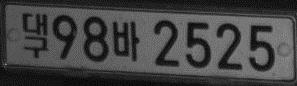2: (153, 19, 179, 67), (216, 23, 242, 70)
5: (248, 24, 275, 71), (185, 22, 211, 68)
8: (82, 15, 109, 62)
9: (51, 13, 77, 59)
대구_V: (22, 12, 49, 59)
바: (112, 21, 140, 61)
